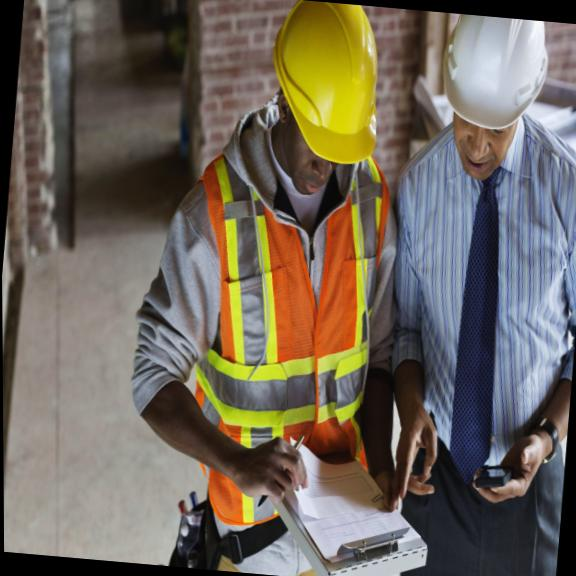no_safety_vest: (385, 159, 576, 458)
safety_vest: (182, 168, 393, 464)
